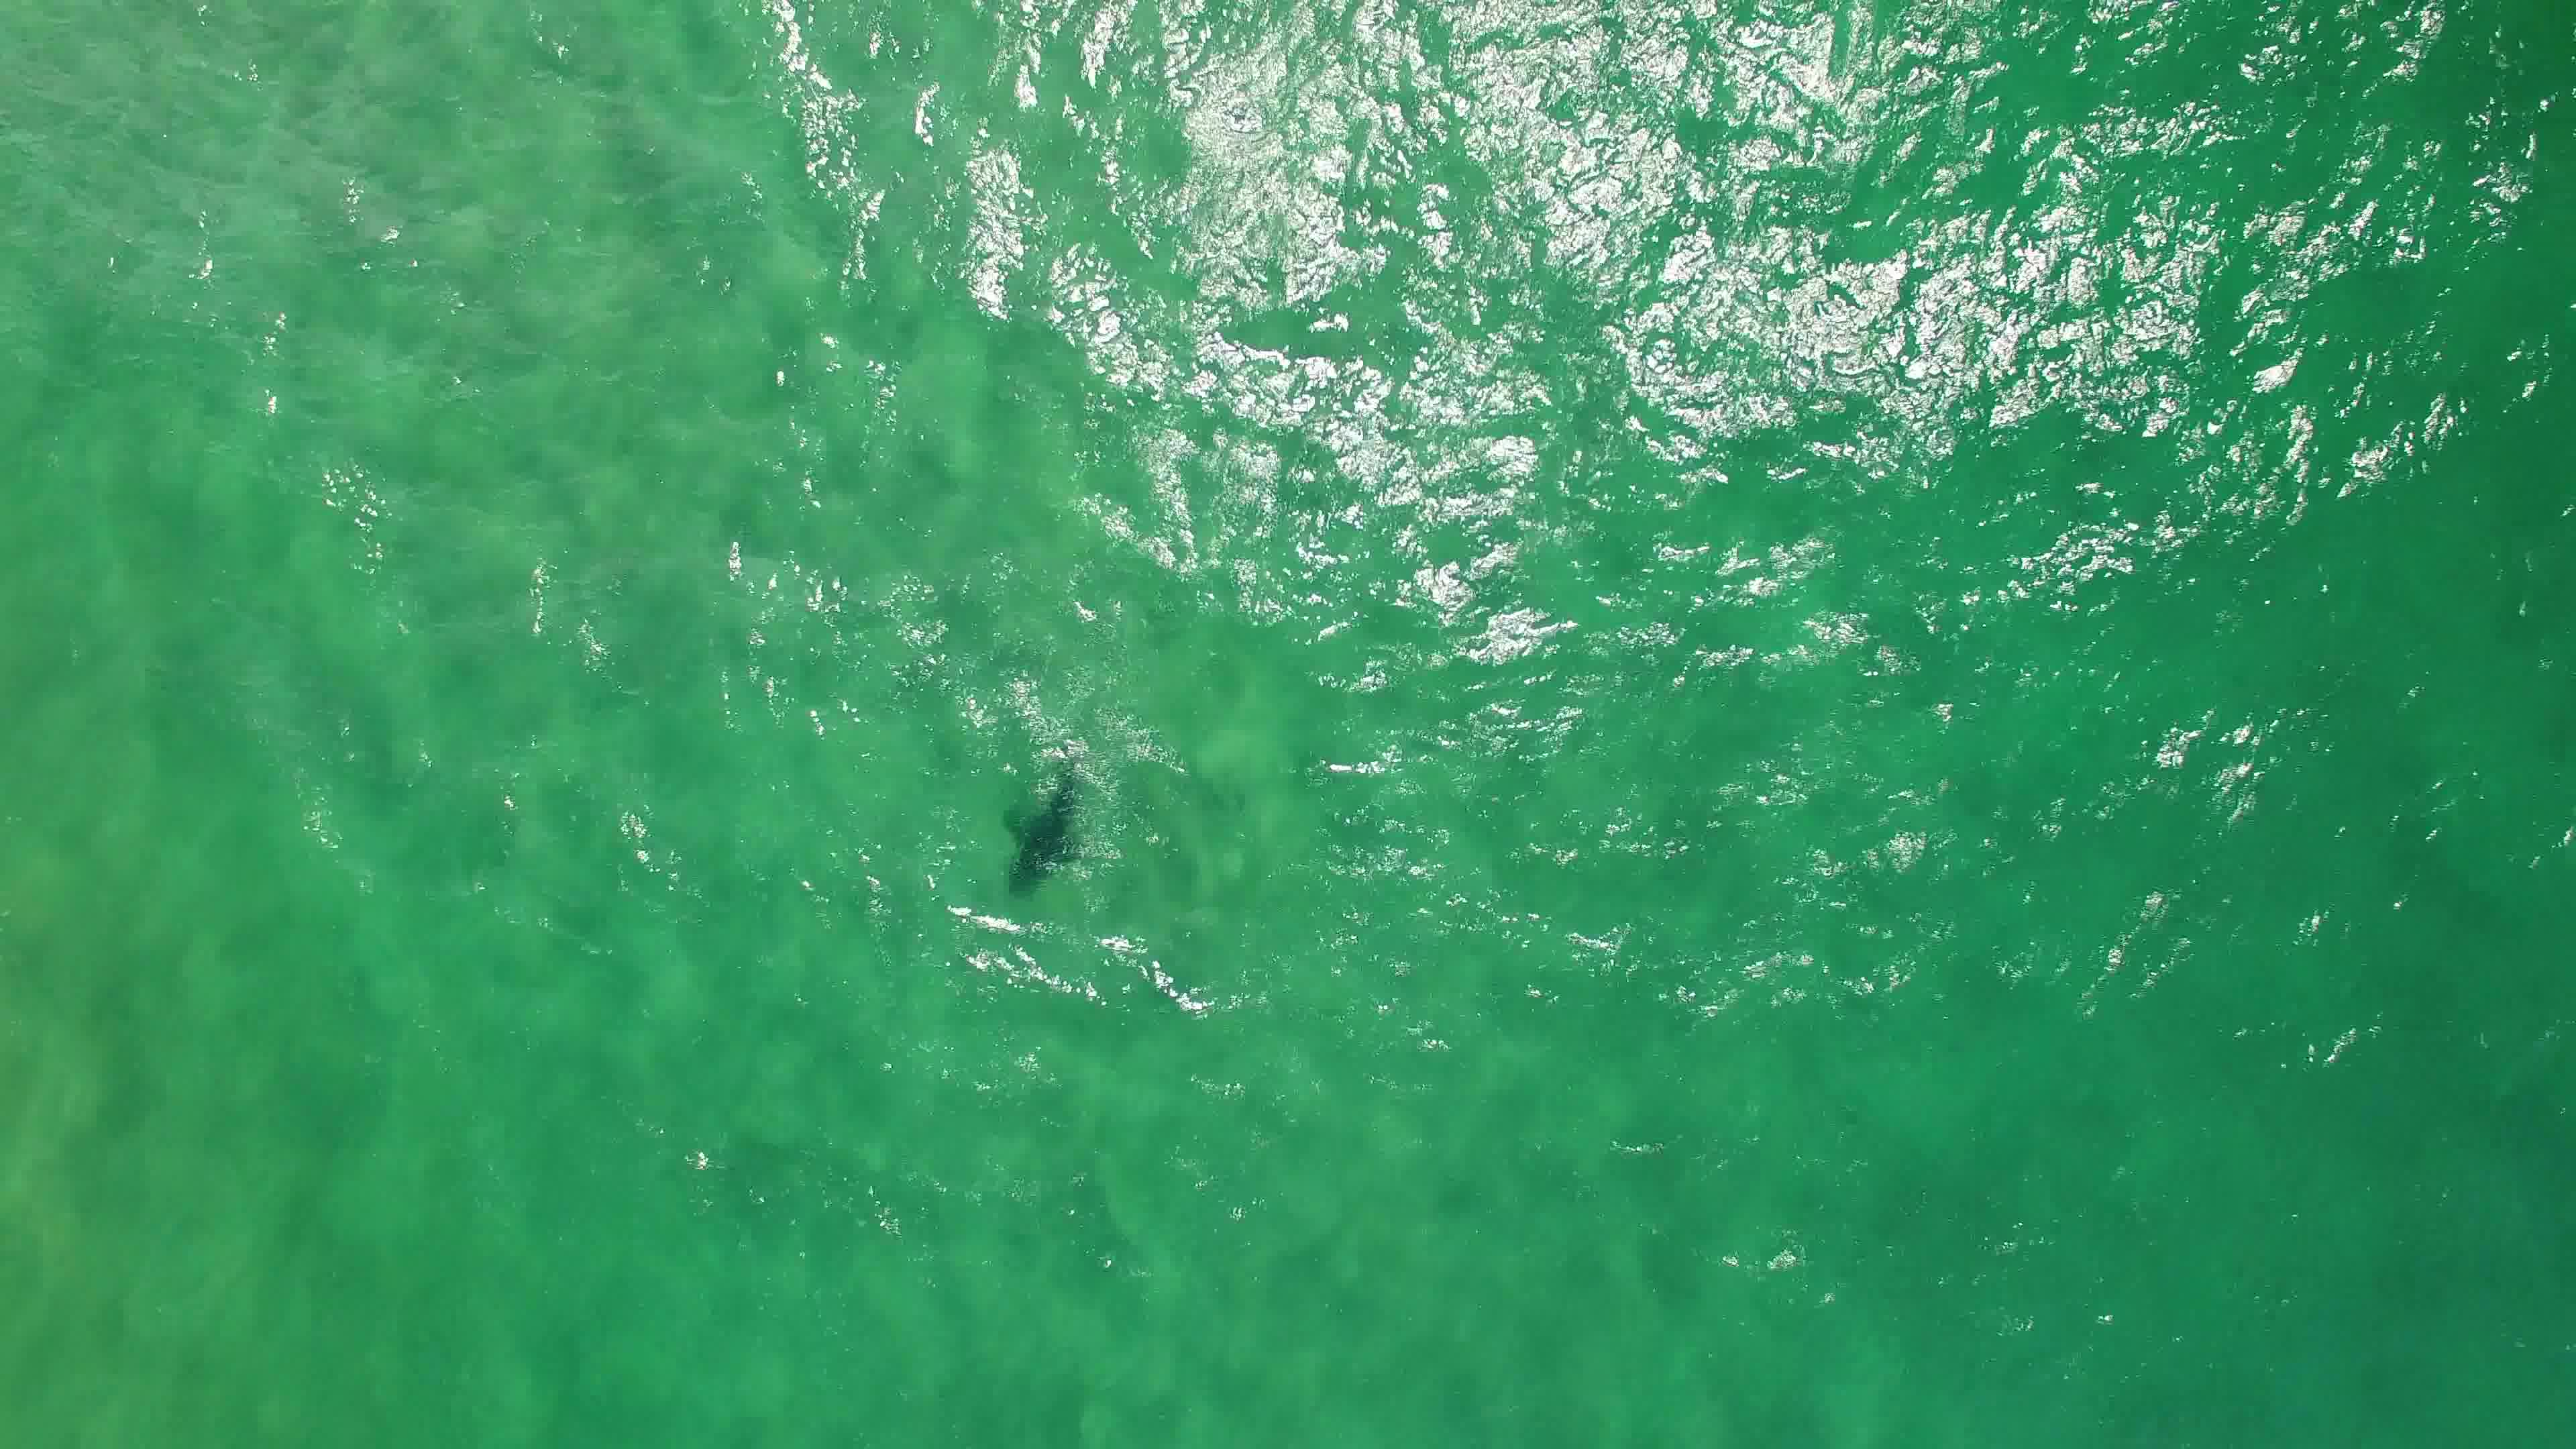shark: (993, 741, 1104, 906)
